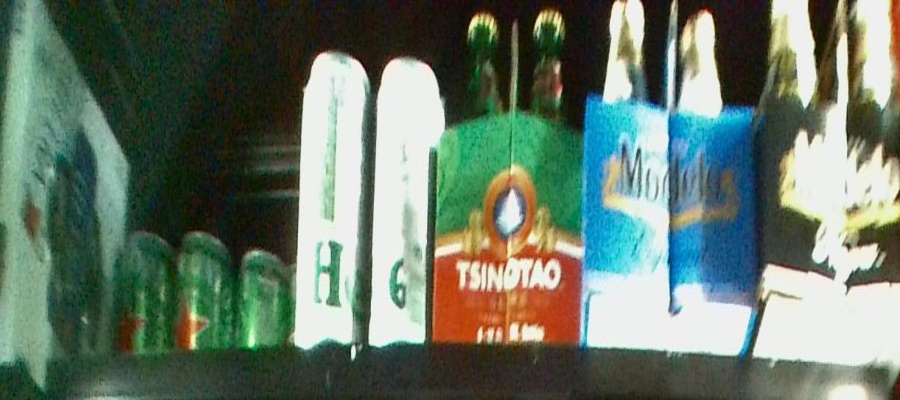bottle: (586, 1, 755, 354), (759, 1, 900, 362), (434, 7, 582, 349), (299, 51, 368, 351), (369, 53, 431, 342), (121, 230, 229, 354), (235, 247, 294, 349)
